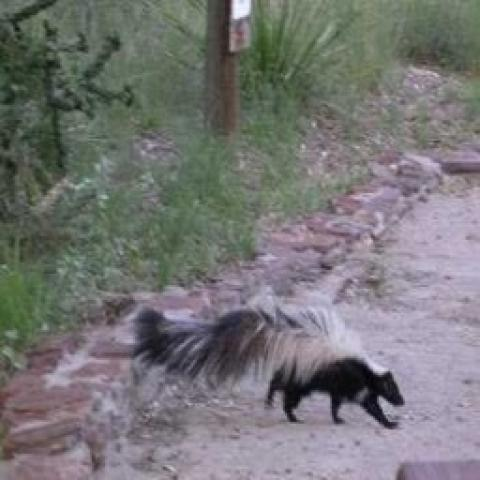small_animal: (126, 294, 408, 432), (392, 452, 478, 478)
